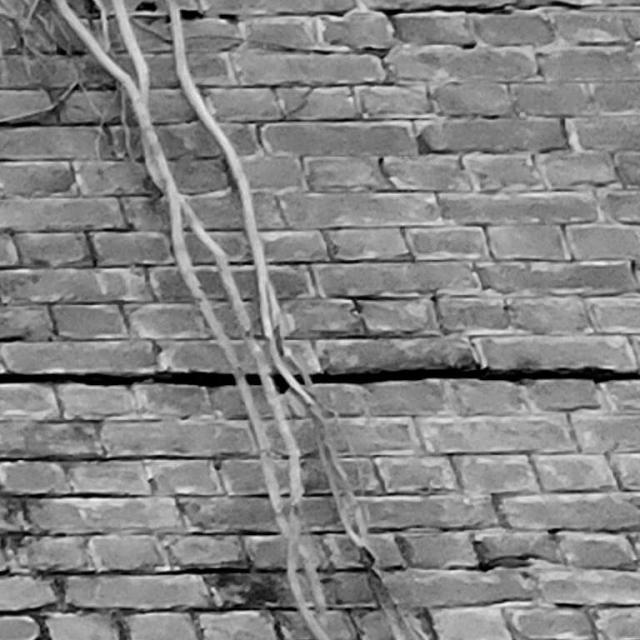crack: (1, 367, 639, 388), (370, 1, 596, 17)
